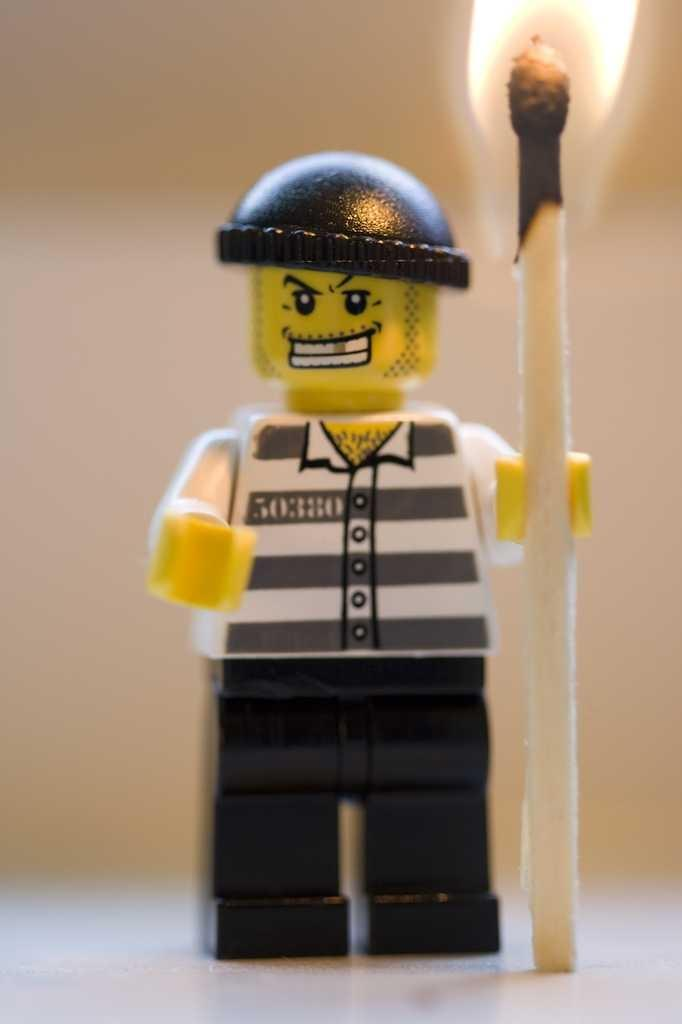fire: (468, 5, 648, 138)
